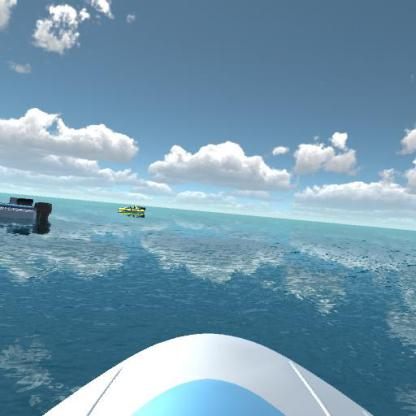usv1: (1, 190, 57, 232)
usv2: (116, 201, 149, 220)
